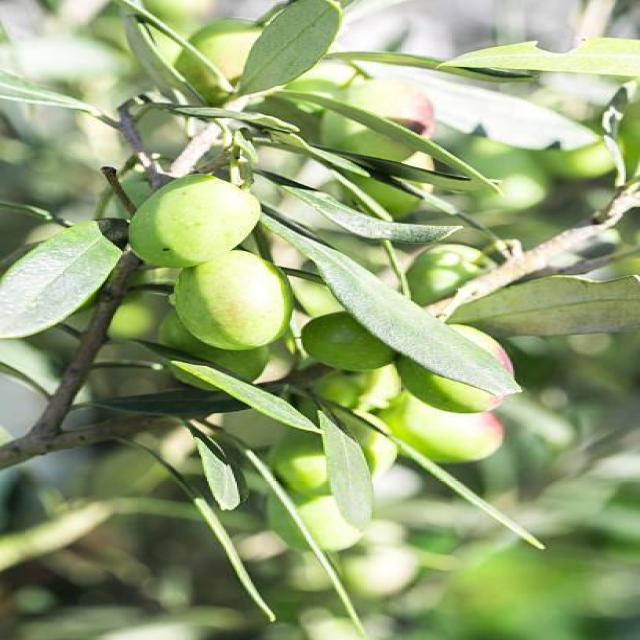Healthy: (262, 214, 521, 396), (0, 221, 121, 340), (121, 174, 259, 268), (171, 250, 290, 350), (237, 0, 340, 95), (304, 312, 395, 371)
